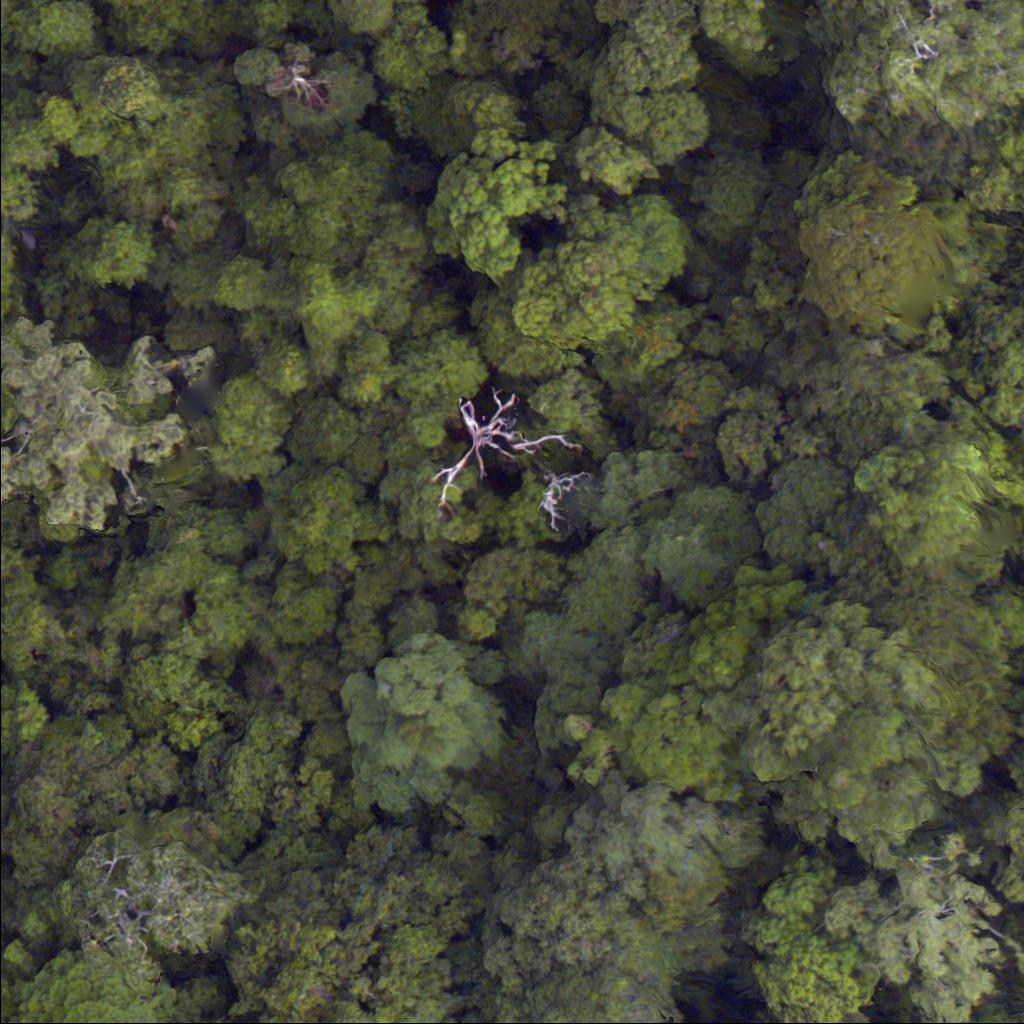crown: (774, 138, 967, 357), (831, 824, 1023, 1023), (587, 611, 774, 808), (328, 643, 521, 828), (471, 858, 673, 1023), (57, 828, 248, 973), (719, 858, 882, 1023), (209, 33, 393, 170), (228, 138, 403, 280), (644, 479, 774, 609), (763, 453, 878, 594), (266, 462, 394, 588), (294, 403, 372, 468), (979, 116, 1023, 215)
